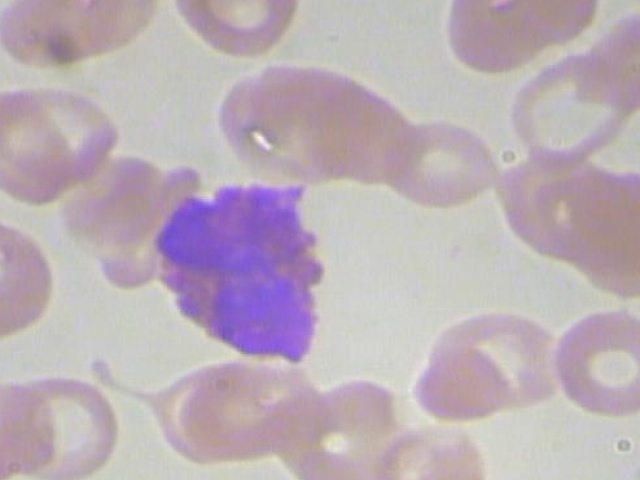Platelets: (635, 441, 640, 480)
RBC: (147, 356, 311, 468), (505, 51, 639, 174), (0, 368, 124, 480), (438, 0, 602, 77), (0, 0, 168, 74), (378, 115, 501, 208), (545, 303, 640, 421), (0, 86, 90, 206), (166, 0, 308, 60), (410, 338, 515, 419), (0, 208, 56, 349), (372, 419, 488, 480)
WBC: (140, 173, 343, 385)
